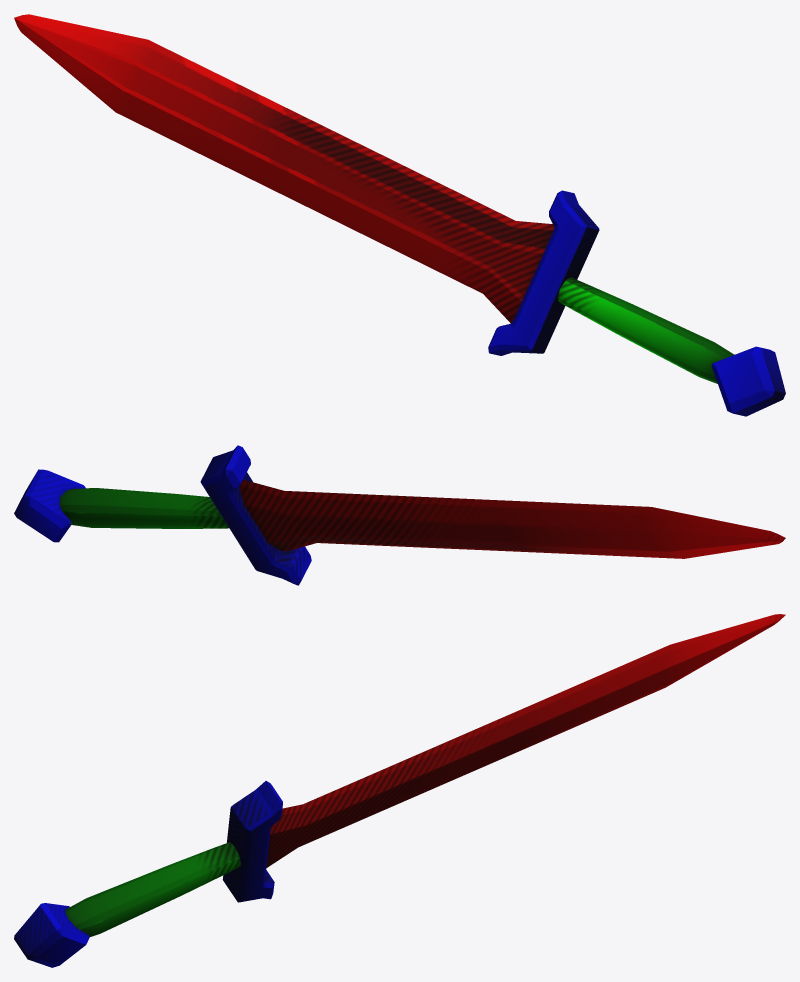
File: SM_BasicSword_01.glb
3 renders of one model, top to bottom at view 1: azimuth 30°, elevation 25°; view 2: azimuth 210°, elevation 25°; view 3: azimuth 270°, elevation 25°, orthographic. The views are drawn at different scales.
Parts seen in each view (by area): view 1: SM_BasicSword_01; view 2: SM_BasicSword_01; view 3: SM_BasicSword_01.
Boxes of the visible parts, x1,y1,x2,y2 form: SM_BasicSword_01: (14, 14, 785, 416); SM_BasicSword_01: (14, 445, 785, 585); SM_BasicSword_01: (14, 614, 785, 967).
Size of the model in its own units: 0.6541 by 0.3416 by 1.21.
1 material, 1 textured.
